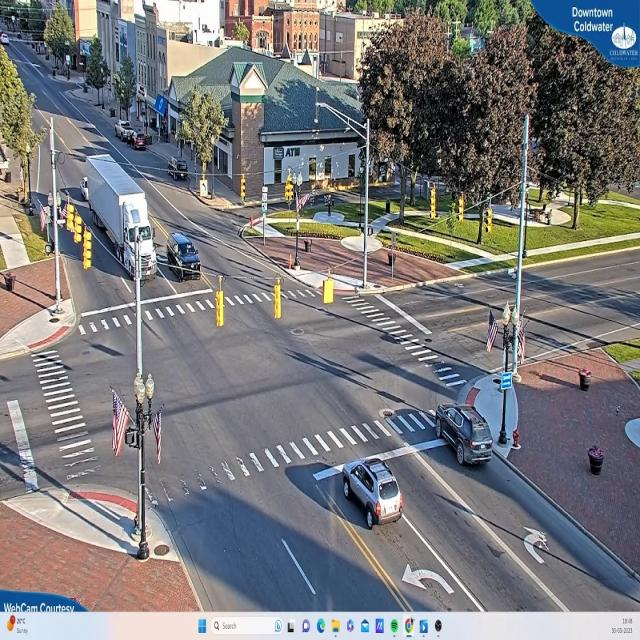car: (340, 456, 409, 528), (436, 406, 493, 468), (133, 134, 149, 150)
truck: (82, 154, 158, 284)
